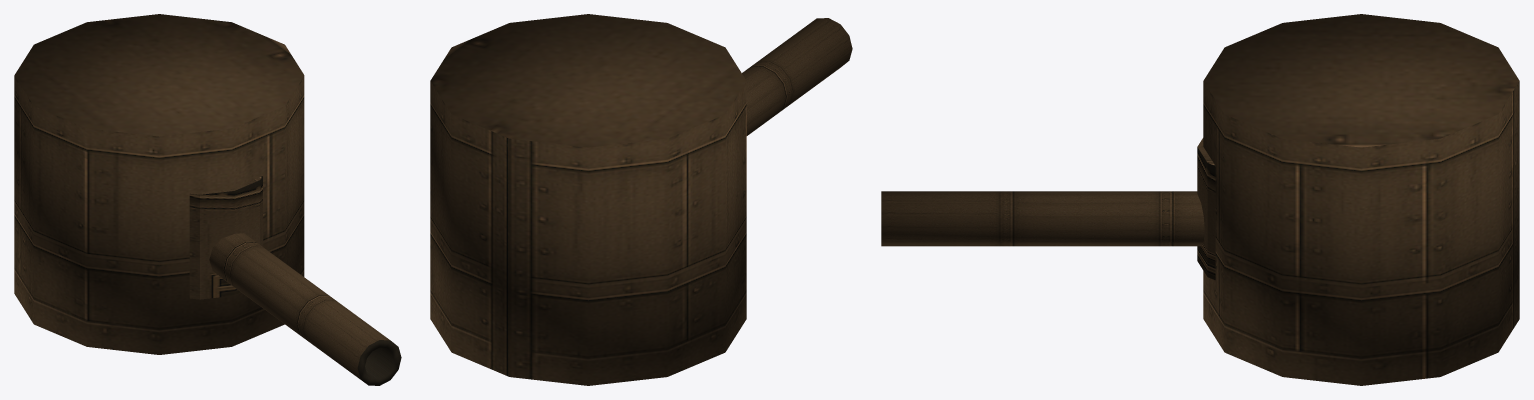
File: mark_iv_tower_lat.dae
The picture shows the model from 3 angles, left to right: view 1: azimuth 30°, elevation 25°; view 2: azimuth 150°, elevation 25°; view 3: azimuth 270°, elevation 25°; orthographic projection. The views are drawn at different scales.
Parts seen in each view (by area): view 1: mark_iv_tower_lat; view 2: mark_iv_tower_lat; view 3: mark_iv_tower_lat.
Part boxes in pixels (x1=…): mark_iv_tower_lat: x1=14, y1=14, x2=401, y2=385; mark_iv_tower_lat: x1=430, y1=14, x2=852, y2=385; mark_iv_tower_lat: x1=881, y1=14, x2=1519, y2=385.
Bounding box in the file's own units: 1.91 × 3.86 × 1.59.
